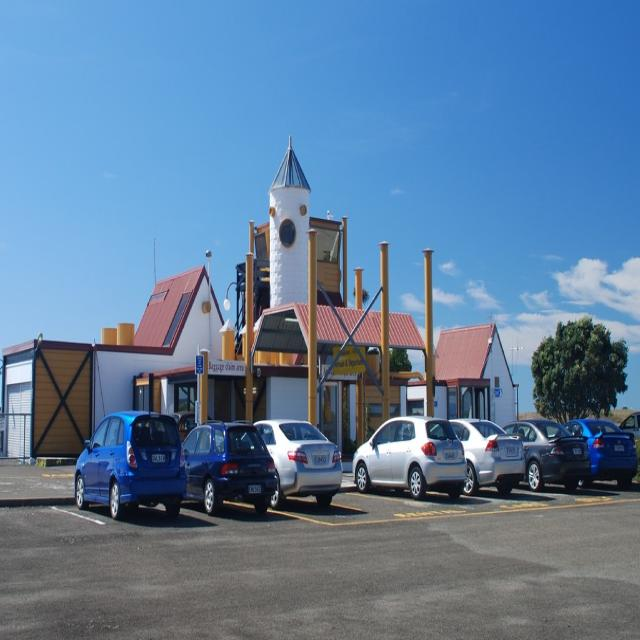car: (72, 407, 187, 519)
